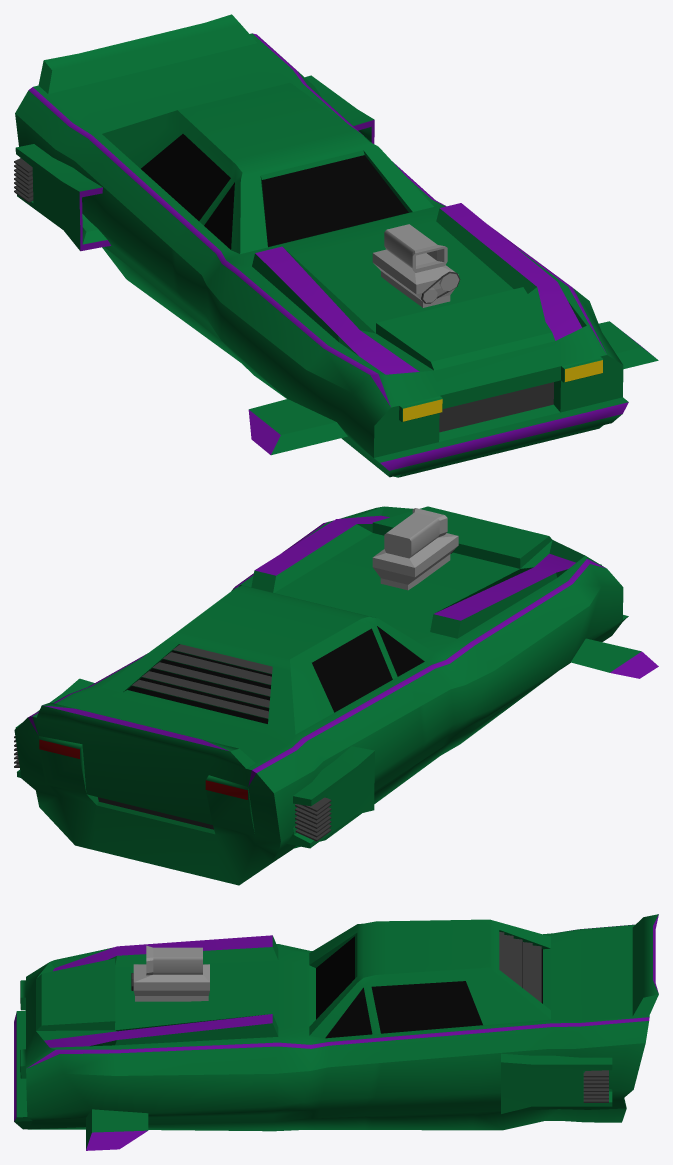
File: muscleFinal.fbx
3 views of the same model, one above another, from view 1: azimuth 30°, elevation 25°; view 2: azimuth 150°, elevation 25°; view 3: azimuth 270°, elevation 25° (orthographic). The views are drawn at different scales.
Parts seen in each view (by area): view 1: muscle; view 2: muscle; view 3: muscle.
Part boxes in pixels (<box>): muscle: <box>14,14,658,477</box>; muscle: <box>14,506,658,885</box>; muscle: <box>14,914,658,1150</box>.
Bounding box in the file's own units: 2.59 × 1.05 × 4.26.
